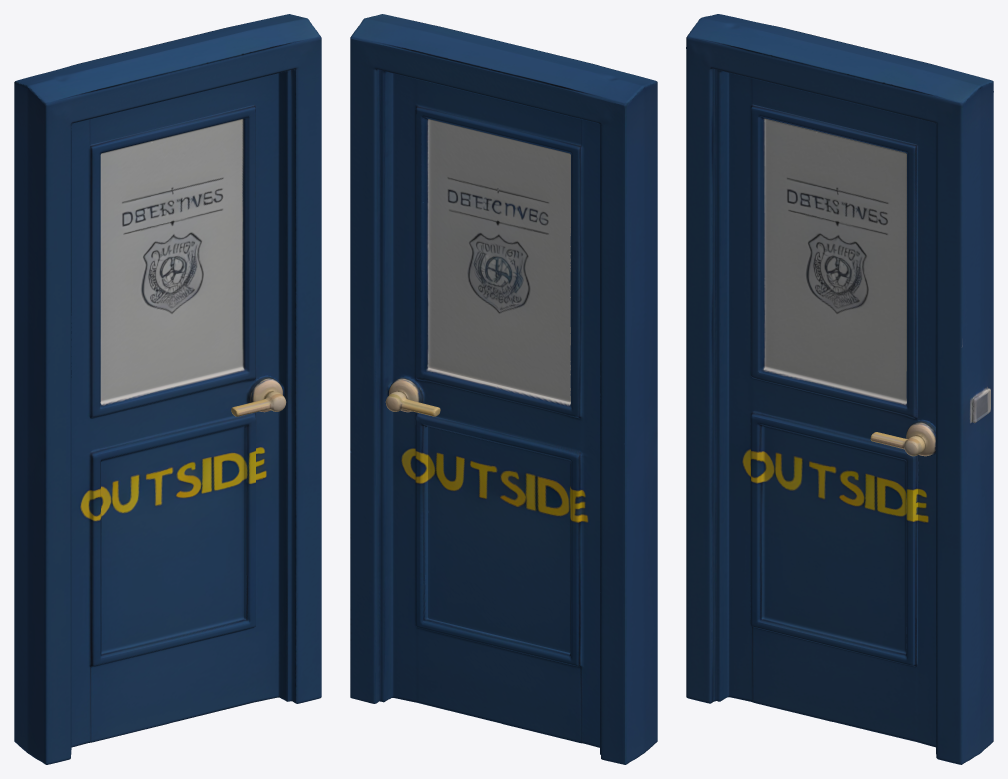
Rendered from outsidedoor.glb.
3 views of the same model, side by side, from view 1: azimuth 30°, elevation 25°; view 2: azimuth 150°, elevation 25°; view 3: azimuth 330°, elevation 25° (orthographic).
Parts seen in each view (by area): view 1: tripo_node_977e296b-750f-4c2c-8a6b-7355a65d05fc; view 2: tripo_node_977e296b-750f-4c2c-8a6b-7355a65d05fc; view 3: tripo_node_977e296b-750f-4c2c-8a6b-7355a65d05fc.
Part boxes in pixels (<box>): tripo_node_977e296b-750f-4c2c-8a6b-7355a65d05fc: <box>14,14,321,764</box>; tripo_node_977e296b-750f-4c2c-8a6b-7355a65d05fc: <box>350,14,657,764</box>; tripo_node_977e296b-750f-4c2c-8a6b-7355a65d05fc: <box>686,14,993,764</box>.
Bounding box in the file's own units: 0.4432 × 1 × 0.1141.
Materials: 1 (1 with a texture image).
